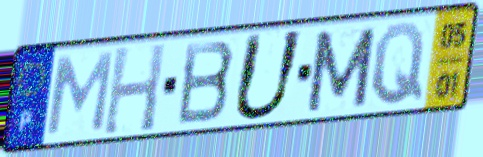B: (174, 38, 238, 129)
H: (100, 40, 169, 138)
M: (303, 24, 379, 116), (42, 49, 116, 138)
Q: (369, 19, 427, 108)
U: (228, 27, 308, 124)
